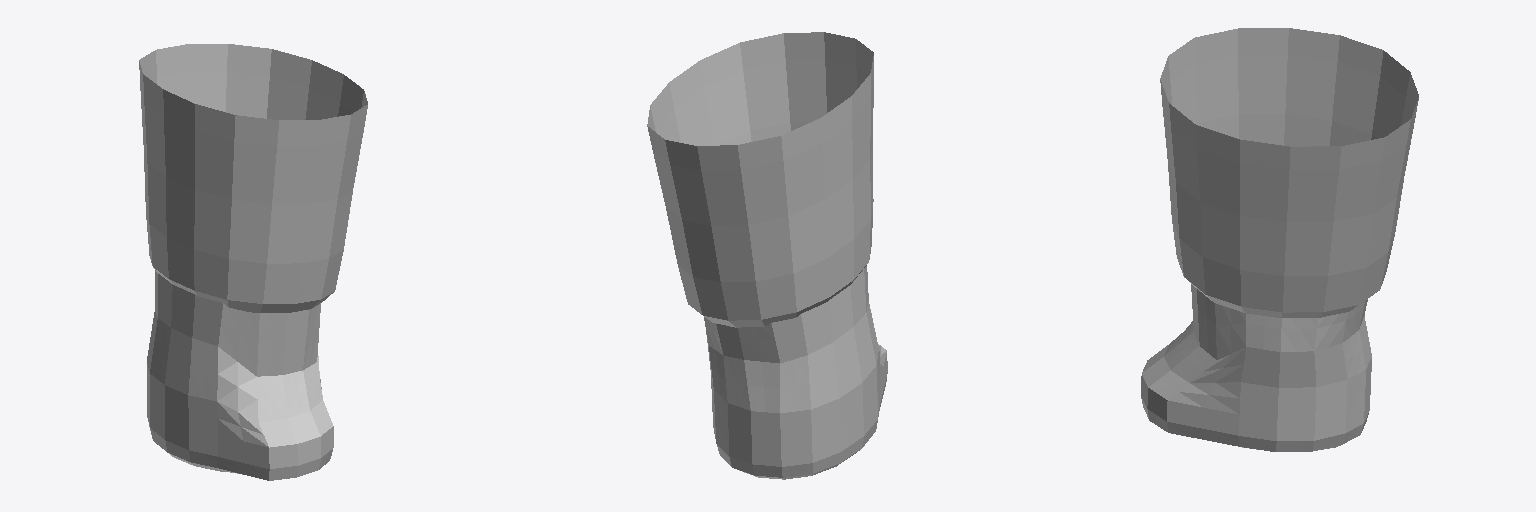
The model's file is rightLeg.obj.
The picture shows the model from 3 angles: view 1: azimuth 30°, elevation 25°; view 2: azimuth 150°, elevation 25°; view 3: azimuth 270°, elevation 25°; orthographic projection.
Visible parts, largest first — view 1: KNIGHT_meshes_Right_LEG_Right_LEG1.001; view 2: KNIGHT_meshes_Right_LEG_Right_LEG1.001; view 3: KNIGHT_meshes_Right_LEG_Right_LEG1.001.
Part boxes in pixels (bbox=[...]): KNIGHT_meshes_Right_LEG_Right_LEG1.001: bbox=[139, 44, 367, 480]; KNIGHT_meshes_Right_LEG_Right_LEG1.001: bbox=[647, 32, 887, 479]; KNIGHT_meshes_Right_LEG_Right_LEG1.001: bbox=[1141, 28, 1418, 451].
Size of the model in its own units: 1.12 by 2.16 by 1.45.